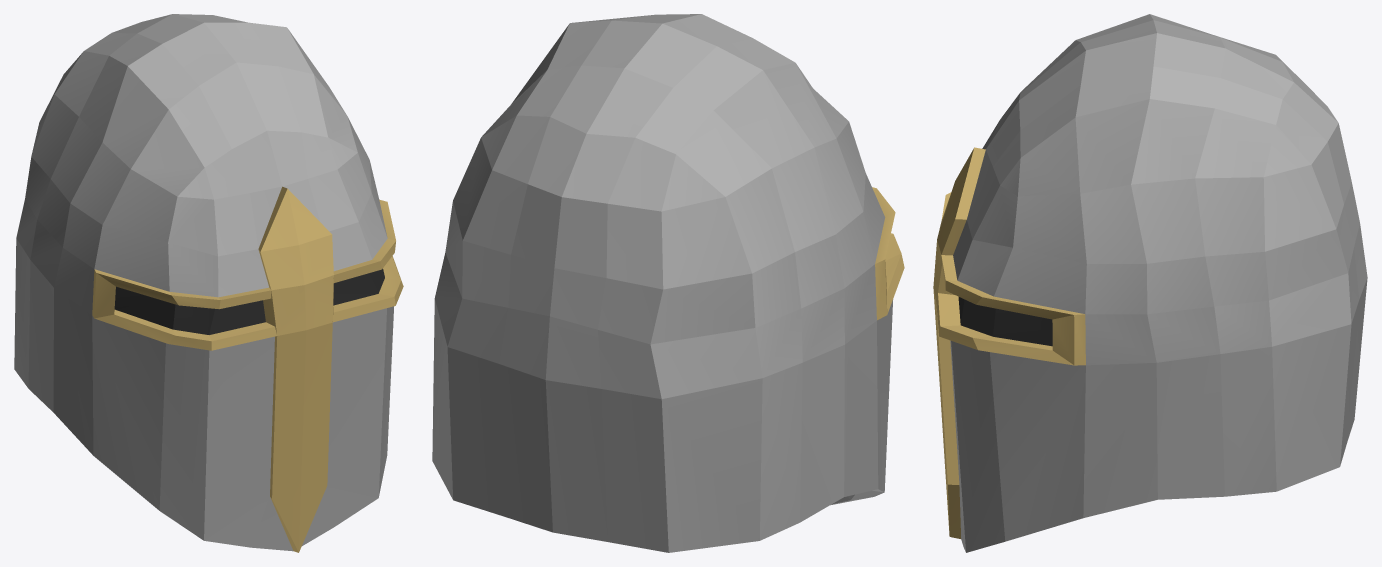
Rendered from helmet3.glb.
The picture shows the model from 3 angles, left to right: view 1: azimuth 30°, elevation 25°; view 2: azimuth 150°, elevation 25°; view 3: azimuth 270°, elevation 25°; orthographic projection. The views are drawn at different scales.
Visible parts, largest first — view 1: Helmet3; view 2: Helmet3; view 3: Helmet3.
Part boxes in pixels (<box>): Helmet3: <box>14,14,403,552</box>; Helmet3: <box>432,14,904,552</box>; Helmet3: <box>933,14,1367,552</box>.
Size of the model in its own units: 0.4277 by 0.6297 by 0.4895.
